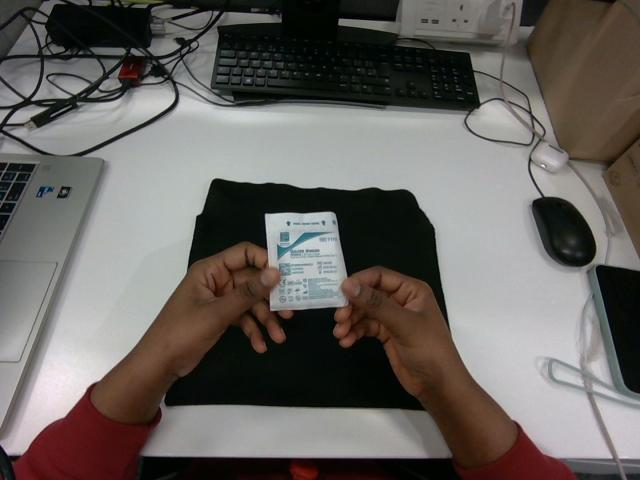gauze: (265, 212, 347, 310)
